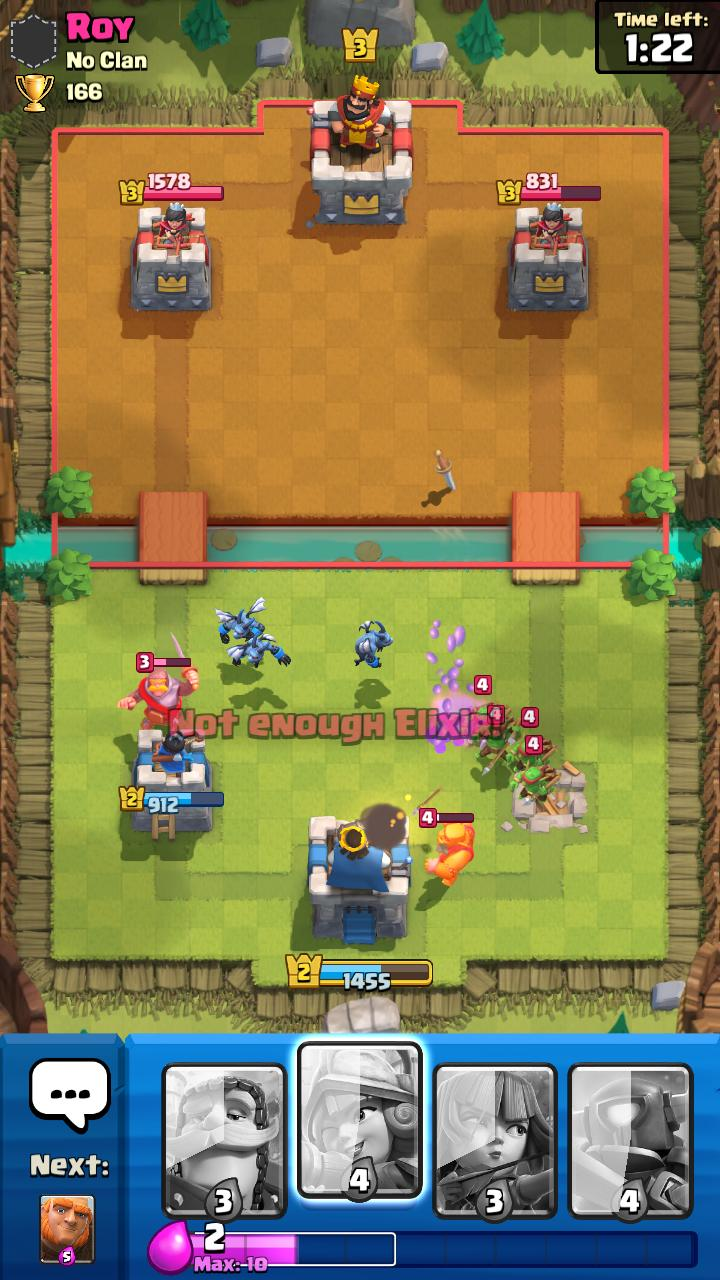ally: (214, 596, 267, 644), (227, 633, 291, 668), (354, 621, 393, 668)
enemy: (117, 633, 199, 730), (418, 808, 475, 886), (510, 735, 561, 806), (506, 707, 557, 772), (468, 675, 512, 744), (475, 705, 522, 765)
